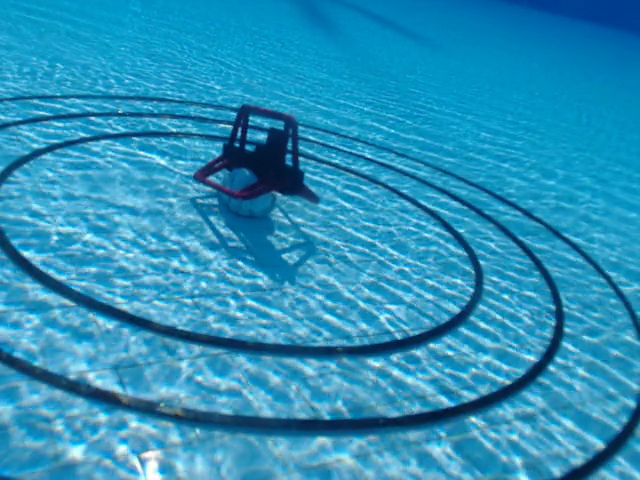submarine: (191, 103, 322, 208)
